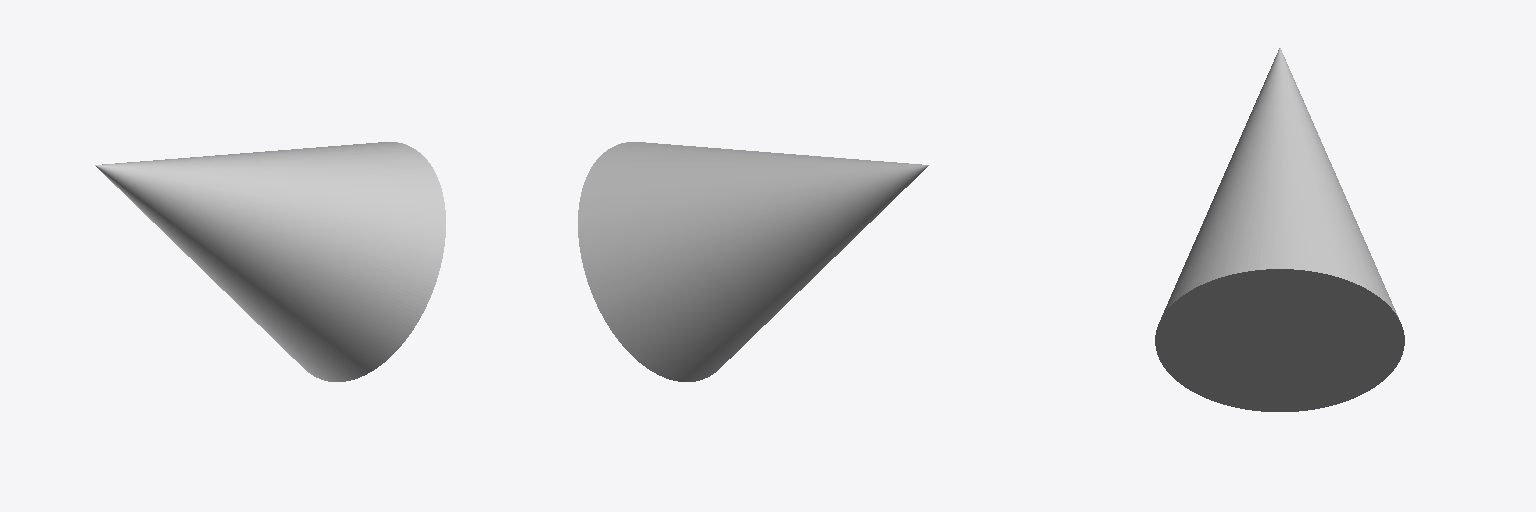
File: mid100-right-fov.obj
3 renders of one model, left to right at view 1: azimuth 30°, elevation 25°; view 2: azimuth 150°, elevation 25°; view 3: azimuth 270°, elevation 25°, orthographic.
Visible parts, largest first — view 1: NONE007; view 2: NONE007; view 3: NONE007.
Boxes of the visible parts, <box> form: NONE007: <box>95,142,445,381</box>; NONE007: <box>578,142,928,381</box>; NONE007: <box>1155,48,1404,411</box>.
Bounding box in the file's own units: 17667 × 13615 × 11830.